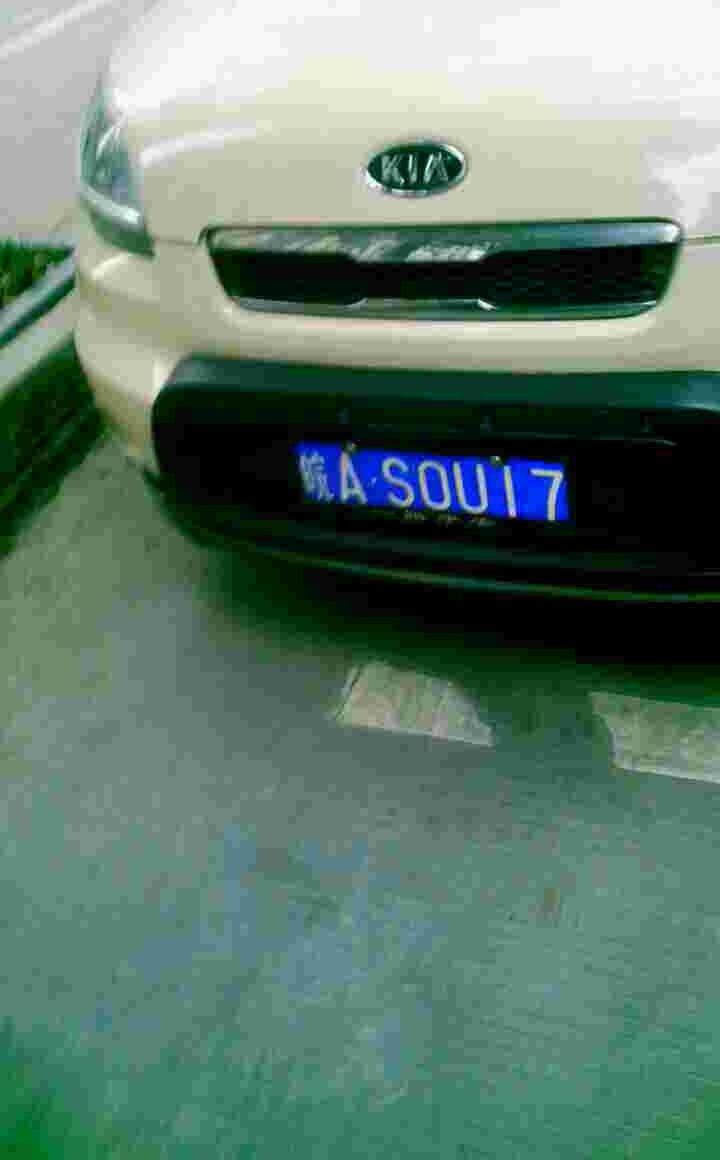license_plate: (297, 446, 582, 517)
